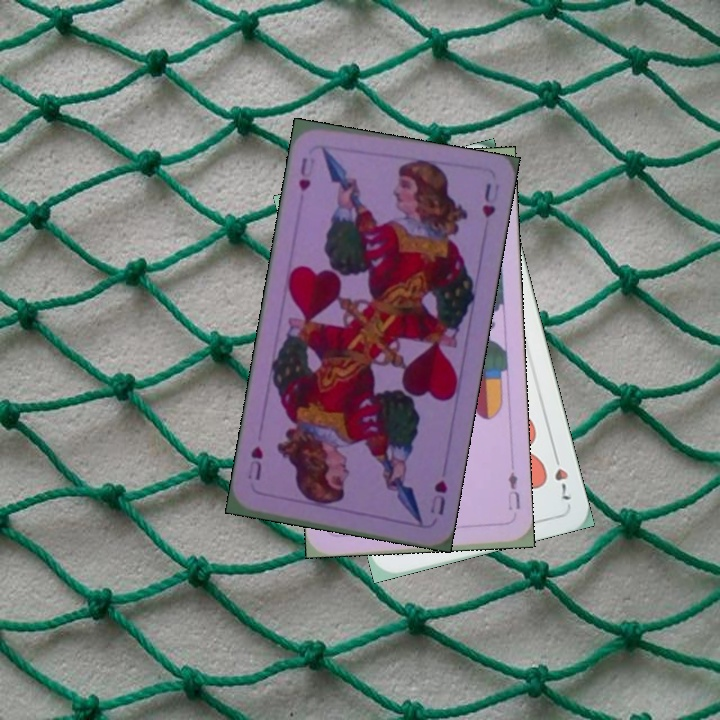EU: (504, 468, 523, 513)
H7: (548, 447, 574, 503)
HU: (426, 476, 450, 518), (294, 153, 318, 194)
